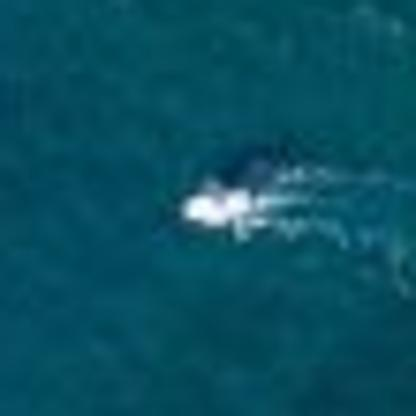ship: (174, 171, 262, 240)
